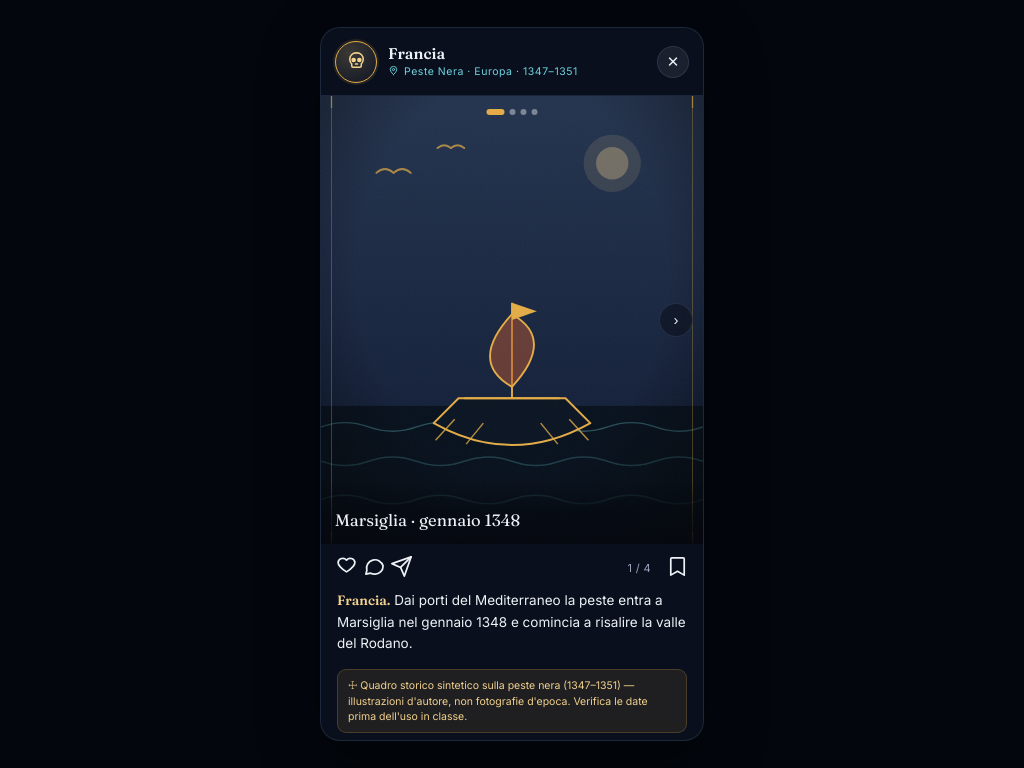
Test case: IgCard › navigazione: i pulsanti prev/next avanzano e tornano indietro; le frecce si nascondono agli estremi
Click the button named "Successiva" at (676, 320), box [659,303,693,337]
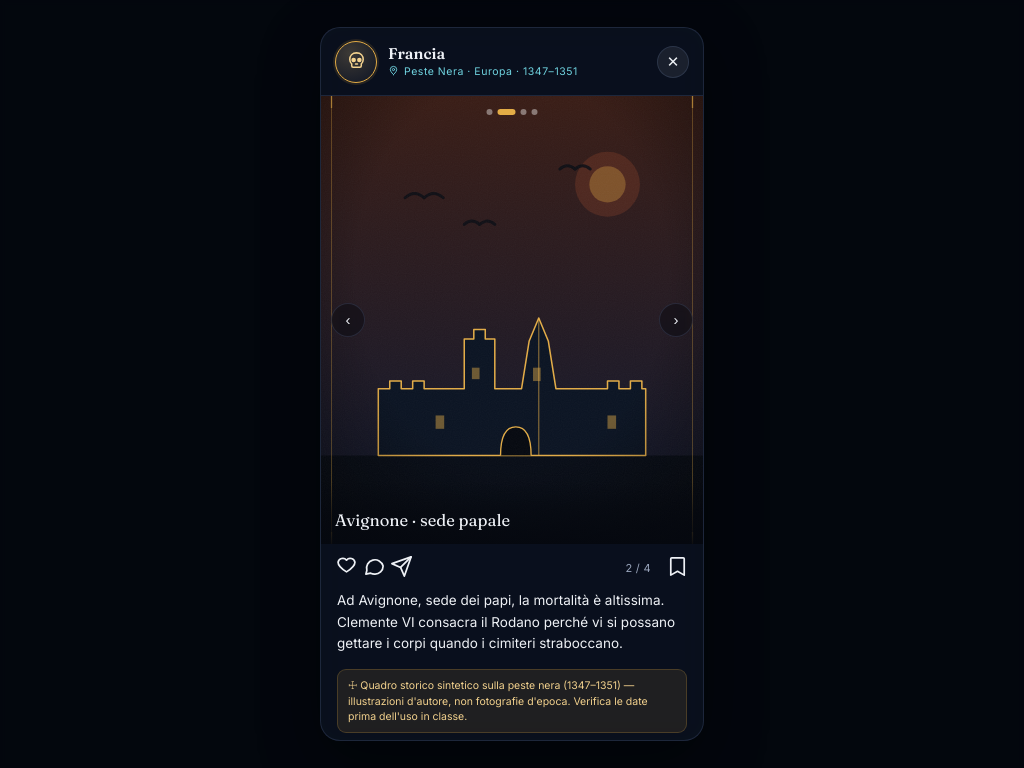
Check: the text "Avignone · sede papale" is shown, box [335,510,510,530]
Click the button named "Precedente" at (348, 320), box [331,303,365,337]
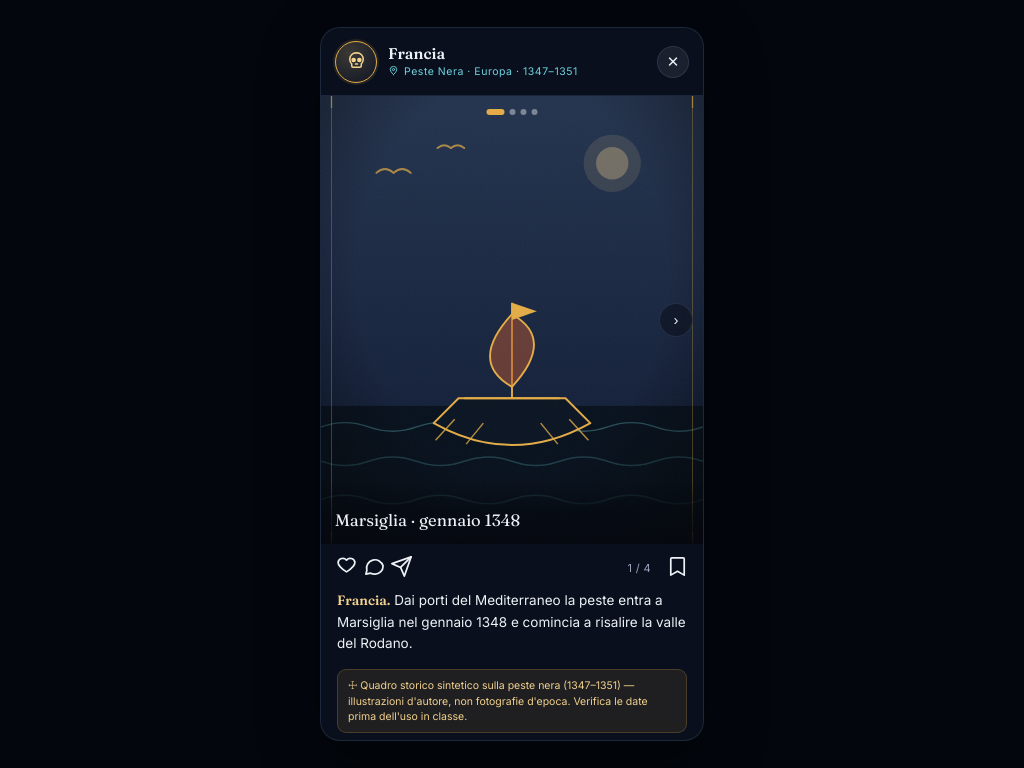
Check: the text "Marsiglia · gennaio 1348" is shown, box [335,510,520,530]
